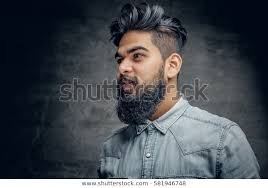Indian_Male: (114, 22, 183, 112)
